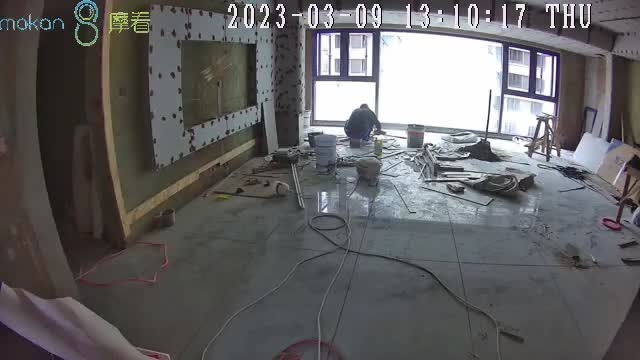people: (344, 103, 382, 142)
window: (310, 29, 560, 141)
